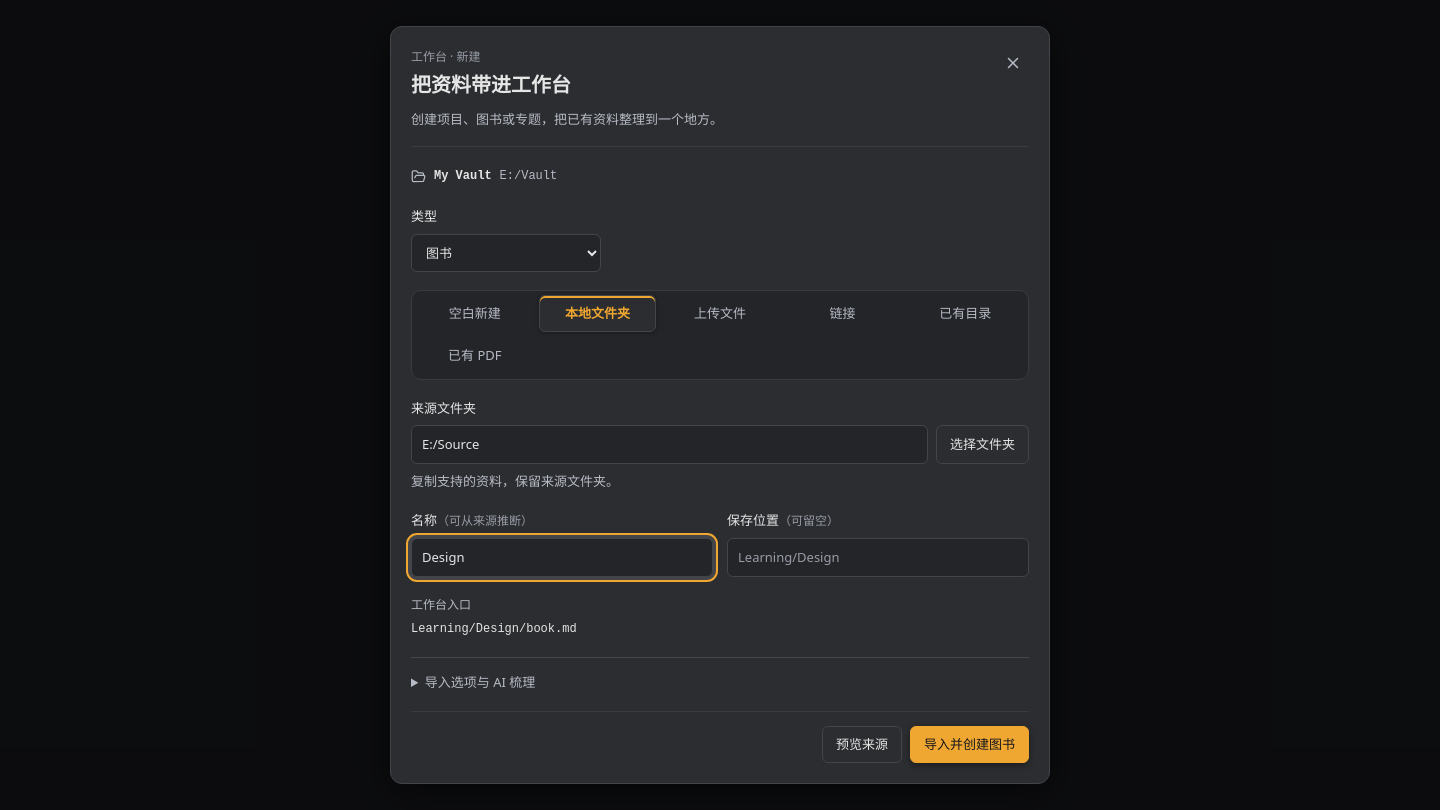
it: SourceImportModal › distinguishes saved attachments from extracted text on completion
Click the button with test id "source-start": coordinates (970, 745) top-left (910, 726), bottom-right (1029, 763)
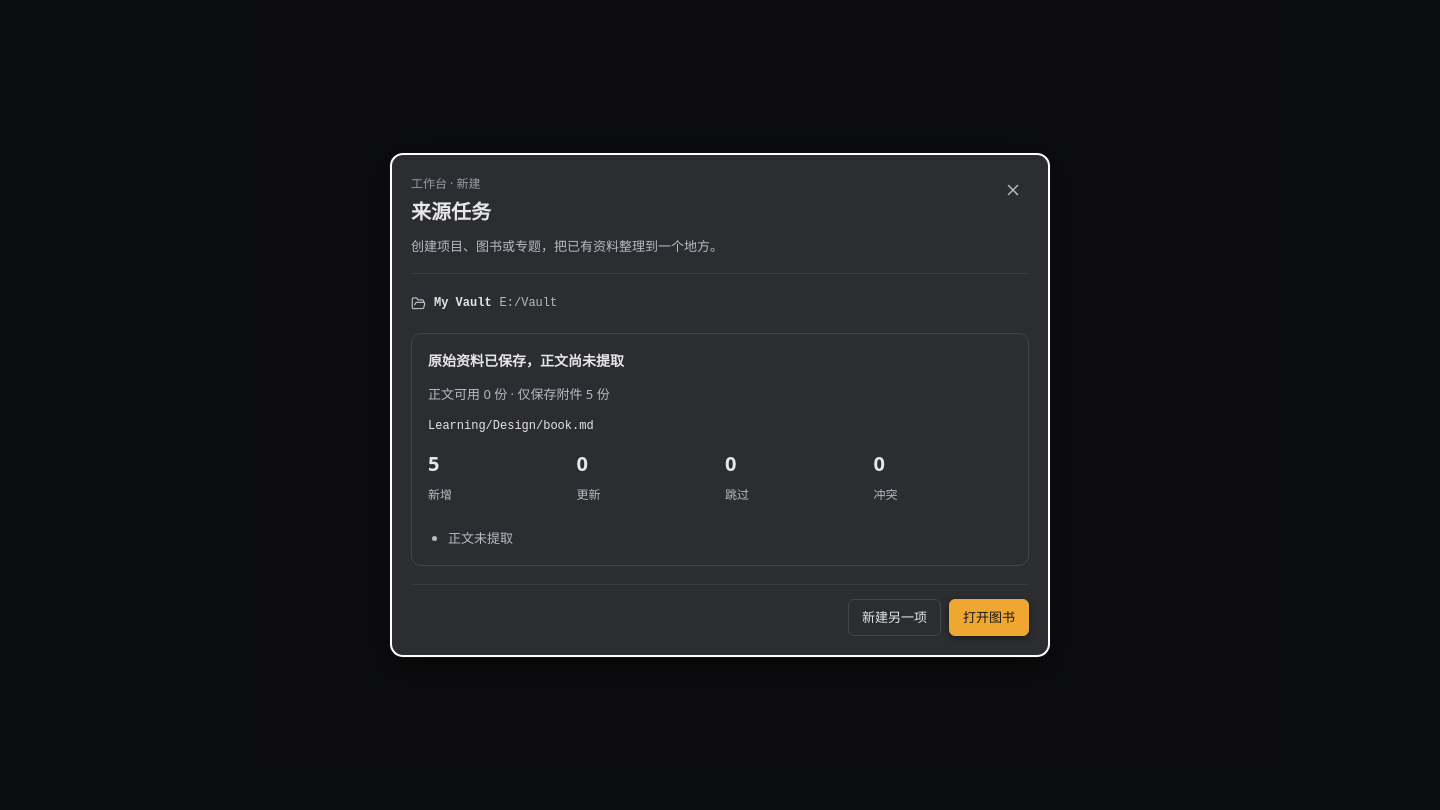
Expected: the text "原始资料已保存，正文尚未提取" is shown, top-left (428, 351), bottom-right (624, 370)
Expected: the text with test id "source-content-summary" shows "仅保存附件 5 份", top-left (428, 385), bottom-right (610, 403)
